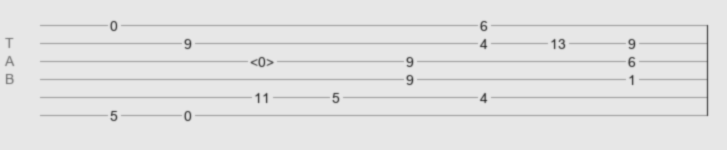0: (110, 18, 118, 28), (184, 108, 192, 118)
1: (628, 72, 636, 82)
11: (254, 90, 270, 100)
13: (550, 36, 566, 46)
4: (480, 36, 488, 46), (480, 90, 488, 100)
5: (110, 108, 118, 118), (332, 90, 340, 100)
6: (480, 18, 488, 28), (628, 54, 636, 64)
9: (184, 36, 192, 46), (406, 54, 414, 64), (406, 72, 414, 82), (628, 36, 636, 46)
harmonic: (250, 54, 274, 64)
